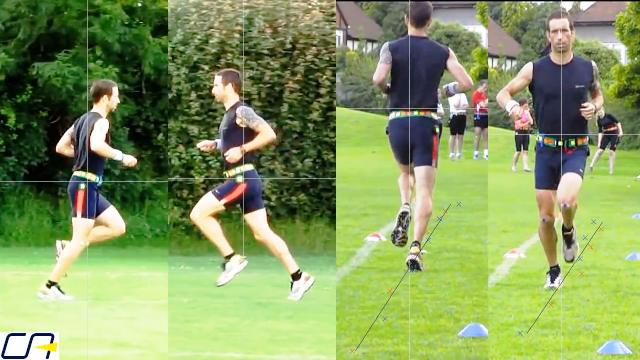berlari: (494, 2, 614, 294), (174, 63, 316, 307), (369, 0, 477, 280), (29, 74, 141, 318)
